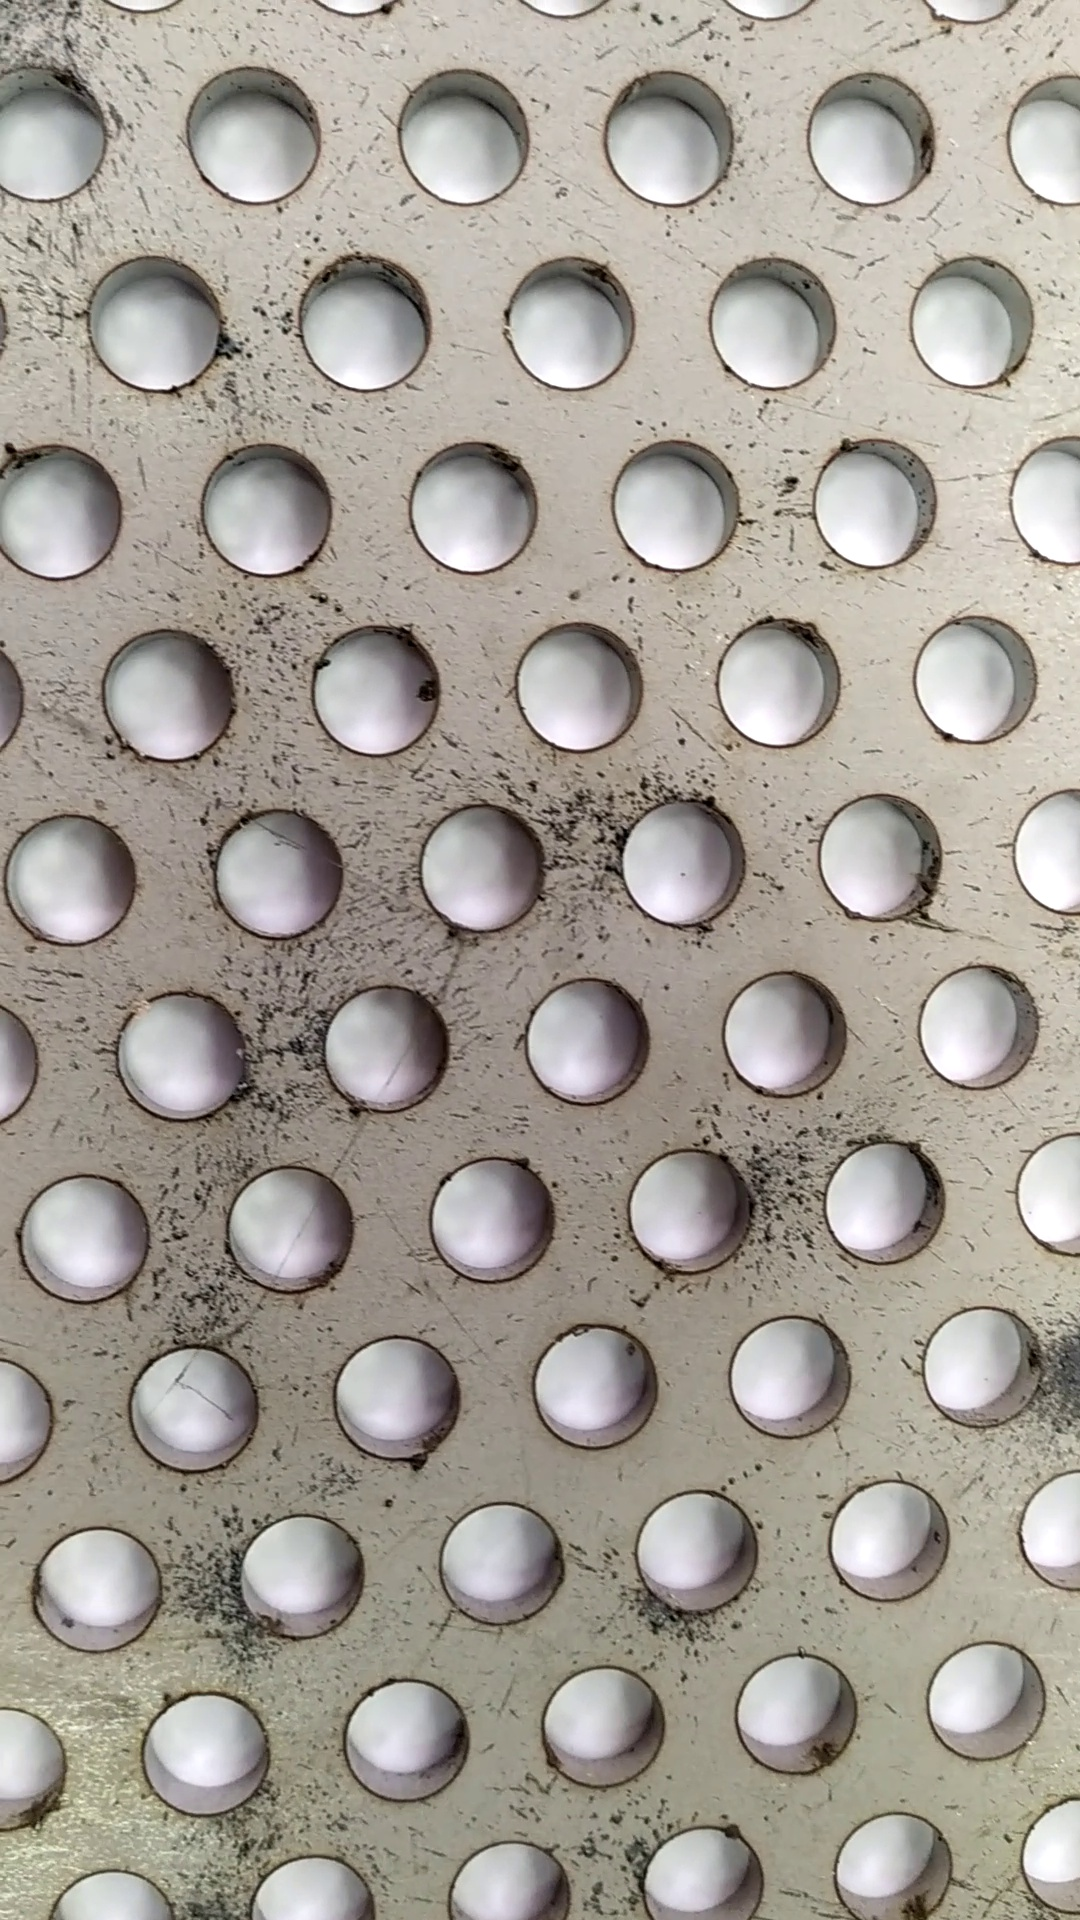Hole: (794, 58, 957, 224), (378, 55, 547, 215), (284, 244, 448, 401), (12, 1515, 181, 1668), (175, 47, 332, 211), (593, 51, 749, 215), (392, 430, 553, 587), (687, 248, 849, 404), (194, 793, 357, 945), (910, 1287, 1062, 1452), (4, 1162, 167, 1311), (228, 1499, 389, 1650), (79, 251, 240, 400), (87, 620, 251, 766), (905, 243, 1055, 401), (324, 1320, 477, 1473), (489, 251, 649, 397), (506, 973, 669, 1117), (330, 1668, 485, 1817), (406, 787, 556, 940), (429, 1487, 582, 1636), (212, 1149, 363, 1299), (185, 436, 340, 582), (717, 1634, 873, 1778), (102, 981, 253, 1127), (898, 607, 1043, 758), (603, 430, 746, 583), (806, 1135, 963, 1275), (716, 960, 862, 1109), (518, 1313, 671, 1456), (127, 1679, 281, 1820), (913, 1625, 1062, 1770), (504, 615, 653, 758), (302, 618, 454, 760), (808, 783, 951, 932), (708, 611, 847, 764), (4, 793, 140, 948), (909, 953, 1055, 1097), (116, 1336, 265, 1477), (608, 791, 760, 930), (798, 430, 945, 571), (419, 1149, 568, 1287), (618, 1139, 760, 1284), (720, 1302, 861, 1447), (626, 1480, 773, 1619), (314, 978, 458, 1120), (814, 1472, 965, 1604), (527, 1664, 675, 1799)
